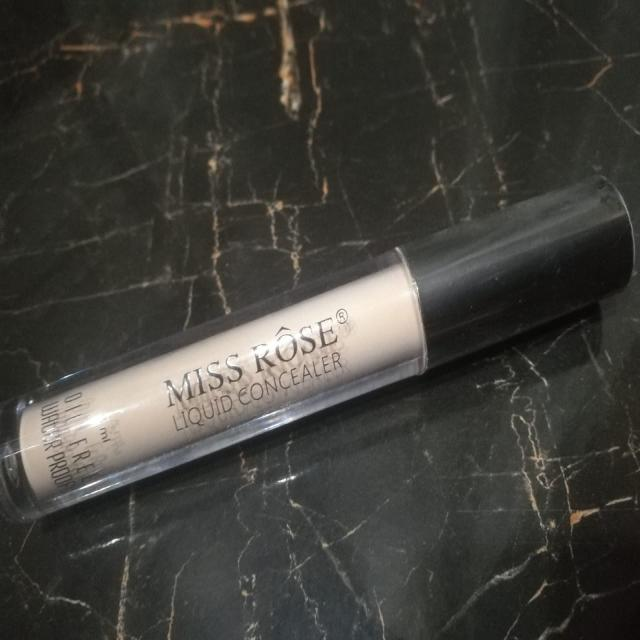concealer: (13, 175, 638, 526)
